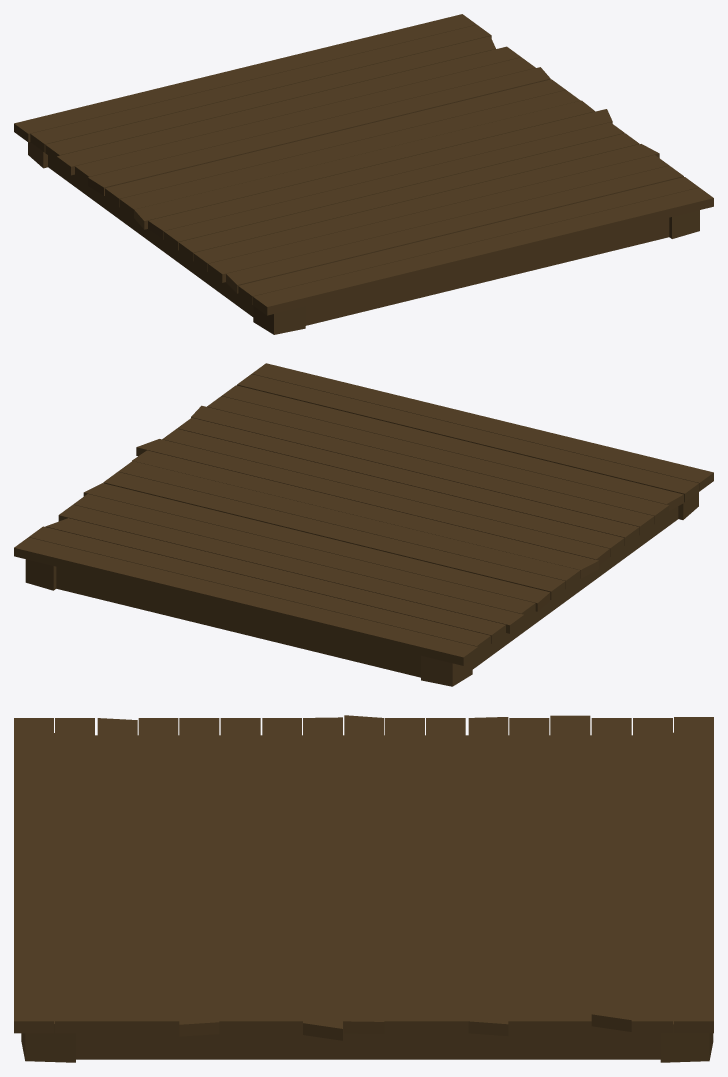
File: Stage.fbx
3 renders of one model, top to bottom at view 1: azimuth 30°, elevation 25°; view 2: azimuth 150°, elevation 25°; view 3: azimuth 270°, elevation 25°, orthographic. The views are drawn at different scales.
Parts seen in each view (by area): view 1: pCube224; view 2: pCube224; view 3: pCube224.
Boxes of the visible parts, left/top/right/bottom form: pCube224: left=14, top=14, right=713, bottom=334; pCube224: left=14, top=363, right=713, bottom=686; pCube224: left=14, top=715, right=713, bottom=1062.
Size of the model in its own units: 4.91 by 0.3399 by 4.63.
